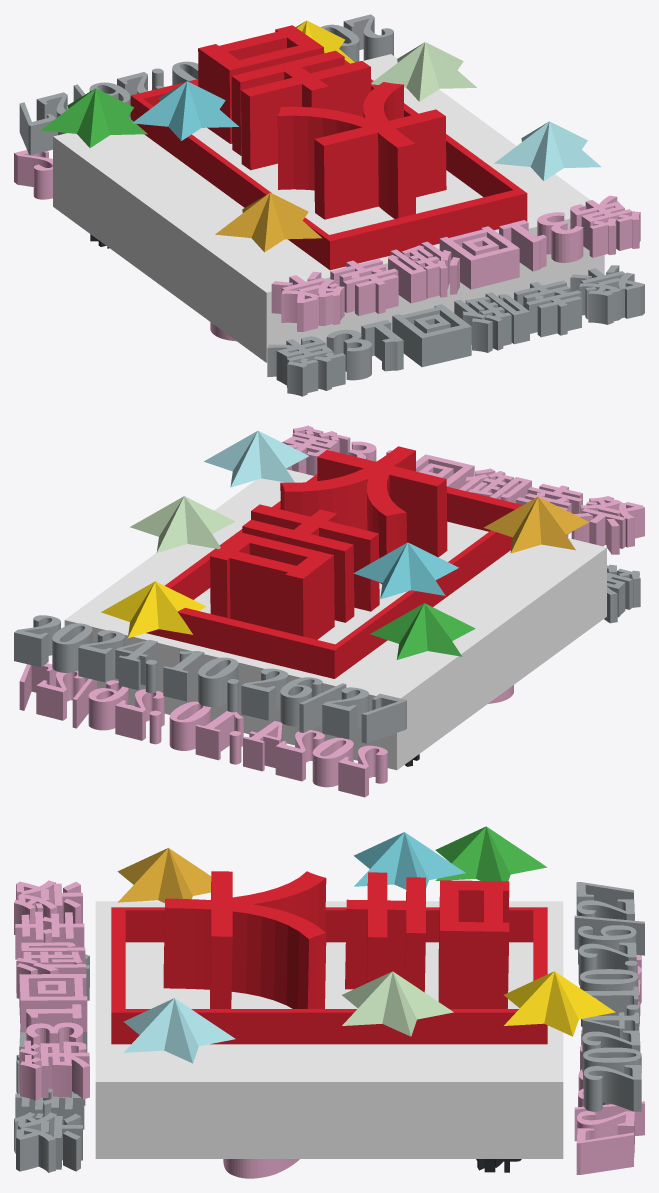
Rendered from tinker.obj.
The picture shows the model from 3 angles, top to bottom: view 1: azimuth 30°, elevation 25°; view 2: azimuth 150°, elevation 25°; view 3: azimuth 270°, elevation 25°; orthographic projection. The views are drawn at different scales.
Visible parts, largest first — view 1: group_0_15277357, group_0_16448250, group_0_10988977, group_0_15708628, group_0_7720667, group_0_11593967, group_0_4634441, group_0_14789940, group_0_13165757, group_0_16768282; view 2: group_0_15277357, group_0_16448250, group_0_15708628, group_0_10988977, group_0_14789940, group_0_7720667, group_0_11593967, group_0_4634441, group_0_13165757, group_0_16768282; view 3: group_0_16448250, group_0_15277357, group_0_15708628, group_0_10988977, group_0_11593967, group_0_13165757, group_0_16768282, group_0_4634441, group_0_14789940, group_0_7720667.
Part boxes in pixels (x1=…): group_0_15277357: x1=130, y1=25, x2=527, y2=270; group_0_16448250: x1=53, y1=54, x2=604, y2=362; group_0_10988977: x1=19, y1=14, x2=644, y2=396; group_0_15708628: x1=14, y1=150, x2=640, y2=341; group_0_7720667: x1=132, y1=81, x2=238, y2=140; group_0_11593967: x1=494, y1=121, x2=601, y2=181; group_0_4634441: x1=40, y1=88, x2=147, y2=147; group_0_14789940: x1=215, y1=192, x2=321, y2=252; group_0_13165757: x1=371, y1=42, x2=476, y2=101; group_0_16768282: x1=295, y1=20, x2=354, y2=63; group_0_15277357: x1=146, y1=446, x2=522, y2=678; group_0_16448250: x1=64, y1=469, x2=606, y2=770; group_0_15708628: x1=19, y1=425, x2=644, y2=797; group_0_10988977: x1=14, y1=564, x2=640, y2=743; group_0_14789940: x1=484, y1=496, x2=589, y2=553; group_0_7720667: x1=353, y1=542, x2=458, y2=599; group_0_11593967: x1=204, y1=430, x2=308, y2=487; group_0_4634441: x1=370, y1=603, x2=475, y2=659; group_0_13165757: x1=130, y1=496, x2=235, y2=552; group_0_16768282: x1=101, y1=581, x2=206, y2=637; group_0_16448250: x1=95, y1=901, x2=563, y2=1158; group_0_15277357: x1=111, y1=871, x2=547, y2=1044; group_0_15708628: x1=14, y1=880, x2=644, y2=1178; group_0_10988977: x1=14, y1=882, x2=644, y2=1172; group_0_11593967: x1=123, y1=998, x2=235, y2=1063; group_0_13165757: x1=342, y1=971, x2=453, y2=1036; group_0_16768282: x1=504, y1=971, x2=615, y2=1036; group_0_4634441: x1=435, y1=826, x2=547, y2=881; group_0_14789940: x1=117, y1=848, x2=211, y2=902; group_0_7720667: x1=354, y1=832, x2=465, y2=889.
Bounding box in the file's own units: 16.48 × 7.62 × 20.24.
